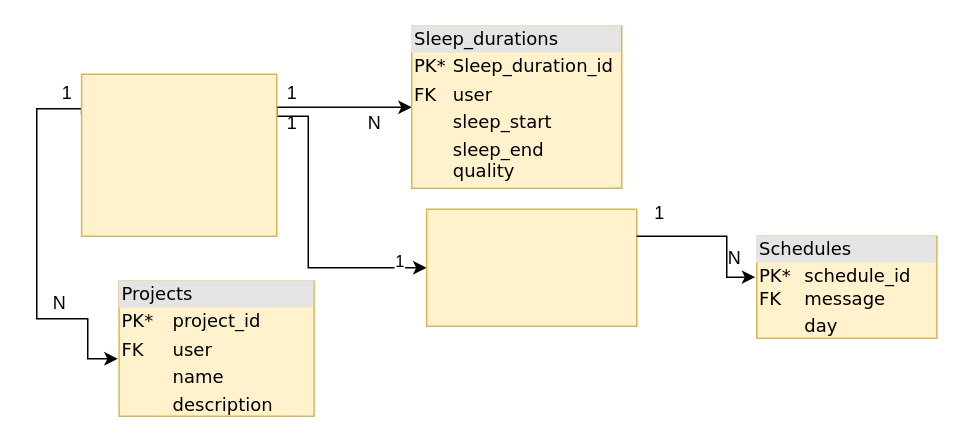
This 965x443 diagram has some shape labels left out. The shapes that lost their labels are listed below. From the top down, each one's centre as x and y in pixels, then its label:
At [178,154]: "Users PK* user_id email name surname password".
At [531,267]: "Sleep_meassages PK* Sleep_message_id FK user sending_time".
